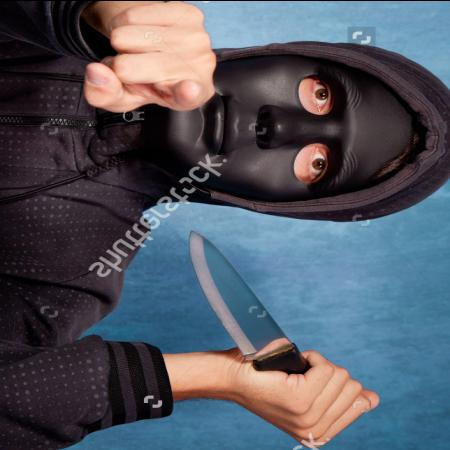long weapon: (178, 224, 386, 418)
